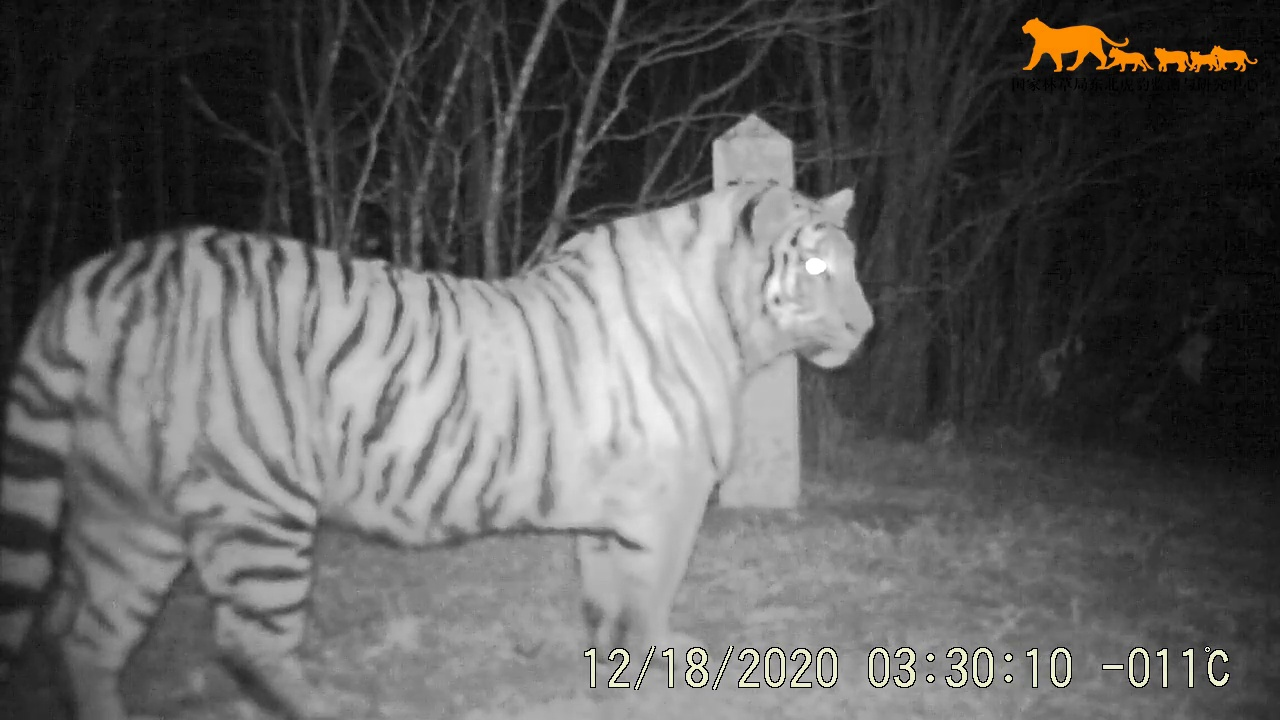Tiger: (1, 122, 914, 716)
